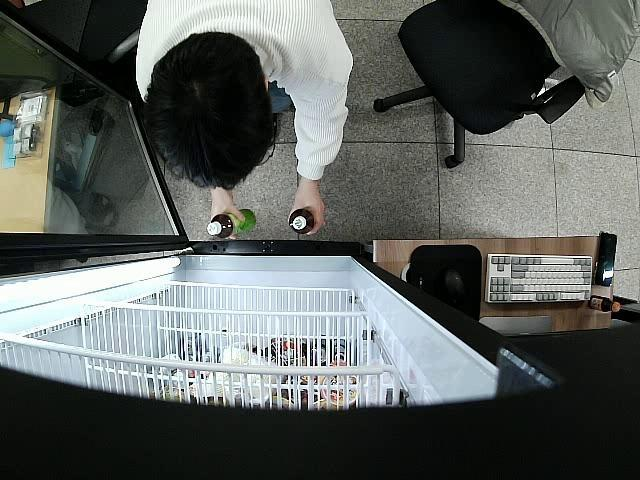19_17cha: (206, 208, 258, 239), (290, 208, 314, 236)
